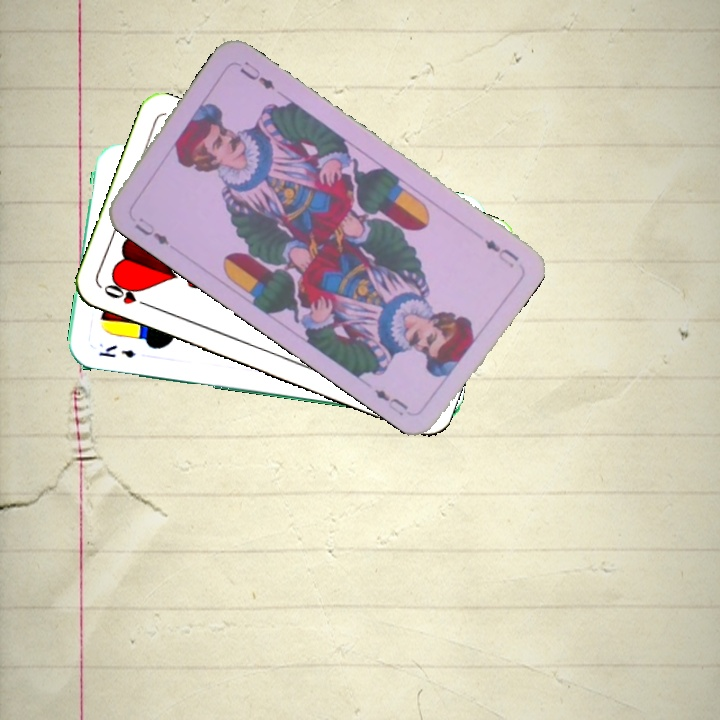EK: (95, 341, 139, 361)
EU: (130, 213, 172, 248), (480, 235, 522, 270)
HO: (99, 280, 155, 311)
